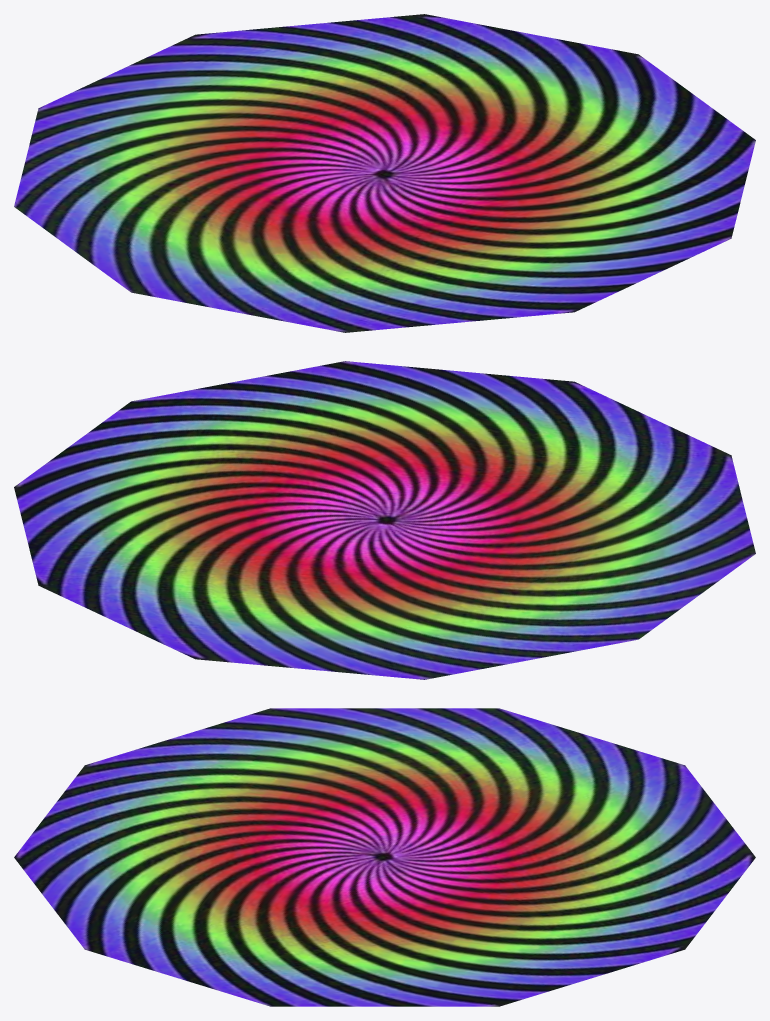
File: Blackhole05.glb
The picture shows the model from 3 angles, top to bottom: view 1: azimuth 30°, elevation 25°; view 2: azimuth 150°, elevation 25°; view 3: azimuth 270°, elevation 25°; orthographic projection. The views are drawn at different scales.
Parts seen in each view (by area): view 1: Cylinder.011; view 2: Cylinder.011; view 3: Cylinder.011.
Part boxes in pixels (<box>): Cylinder.011: <box>14,14,755,332</box>; Cylinder.011: <box>14,361,755,679</box>; Cylinder.011: <box>14,708,755,1006</box>.
Bounding box in the file's own units: 9.79 × 0 × 10.3.
Materials: 1 (1 with a texture image).
